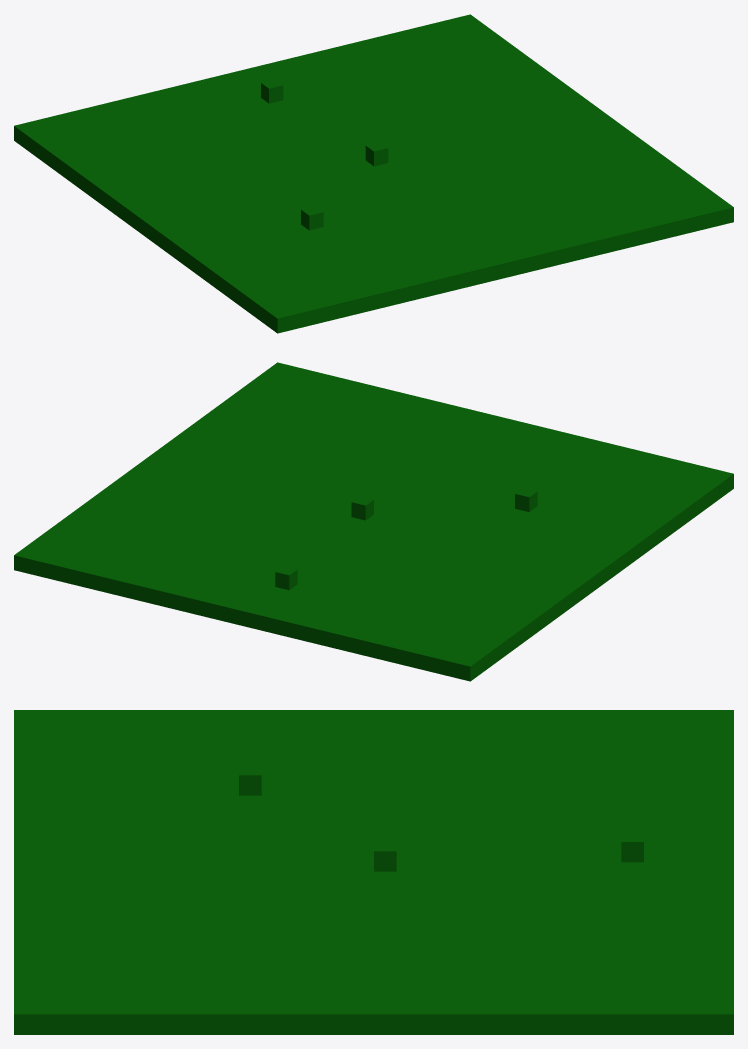
Rendered from env_grass1c.fbx.
3 views of the same model, one above another, from view 1: azimuth 30°, elevation 25°; view 2: azimuth 150°, elevation 25°; view 3: azimuth 270°, elevation 25° (orthographic). The views are drawn at different scales.
Visible parts, largest first — view 1: env_grass1c; view 2: env_grass1c; view 3: env_grass1c.
Part boxes in pixels (x1,y1,x2,y2): env_grass1c: [14, 14, 733, 333]; env_grass1c: [14, 362, 733, 681]; env_grass1c: [14, 710, 733, 1034].
Size of the model in its own units: 3.2 by 3.2 by 0.2.
Materials: 1 (1 with a texture image).
